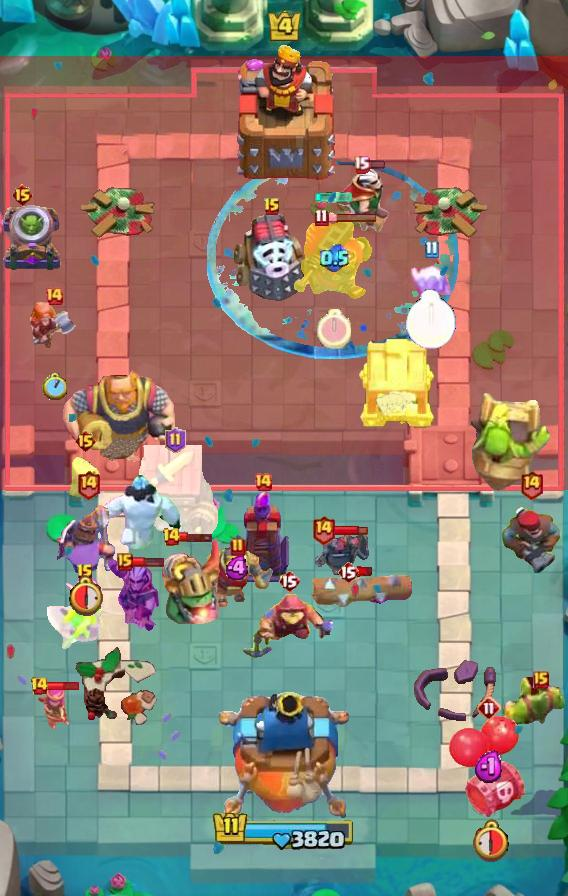bat-evolution: (68, 454, 102, 498)
battle-ram: (310, 530, 372, 578)
bomb: (357, 335, 437, 429)
cannon: (37, 685, 71, 731)
clock: (212, 810, 356, 852)
electro-spirit: (475, 750, 505, 784), (320, 243, 348, 272), (225, 556, 251, 580)
elixir: (405, 290, 457, 350), (469, 818, 509, 862), (69, 574, 107, 616), (317, 309, 351, 349), (41, 373, 66, 400)
elixir-golem-big: (57, 505, 119, 577)
emote: (326, 213, 378, 224), (178, 531, 214, 543), (46, 680, 82, 692), (332, 524, 367, 536), (131, 556, 164, 568), (367, 159, 386, 170), (357, 567, 375, 578)
fireball: (241, 592, 337, 660)
firecracker: (202, 547, 273, 607)
flying-machine: (500, 677, 568, 733)
giant-skeleton: (61, 365, 177, 465)
goblin-cage: (0, 203, 64, 273)
golem: (230, 211, 314, 301)
hog-rider: (29, 302, 79, 350)
ice-spirit: (314, 191, 354, 203)
ice-spirit-evolution-symbol: (233, 488, 293, 584)
inferno-tower: (293, 214, 375, 302)
king-tower: (219, 692, 349, 826), (230, 43, 338, 181)
minion: (311, 570, 414, 608)
mirror: (408, 262, 454, 304)
night-witch: (142, 534, 224, 628)
pad_0: (207, 157, 461, 359)
phoenix-small: (498, 505, 564, 575)
poison: (45, 572, 125, 652)
rage: (101, 475, 181, 549)
royal-recruit-evolution: (448, 715, 530, 821)
skeleton-king: (105, 558, 173, 634), (334, 165, 408, 233)
sparky: (132, 444, 218, 542)
text: (520, 469, 545, 500), (76, 469, 101, 500), (312, 515, 337, 546), (477, 696, 501, 720), (10, 183, 33, 207), (74, 429, 97, 453), (165, 427, 186, 453), (337, 560, 359, 584), (278, 569, 300, 593), (44, 286, 64, 306), (253, 472, 273, 492), (162, 527, 182, 547), (31, 676, 50, 696), (263, 197, 281, 217), (76, 563, 94, 583), (353, 155, 371, 174), (230, 537, 246, 557), (117, 553, 133, 571), (533, 671, 549, 689), (314, 209, 329, 228), (424, 241, 439, 259)
x-bow: (469, 391, 553, 493)
